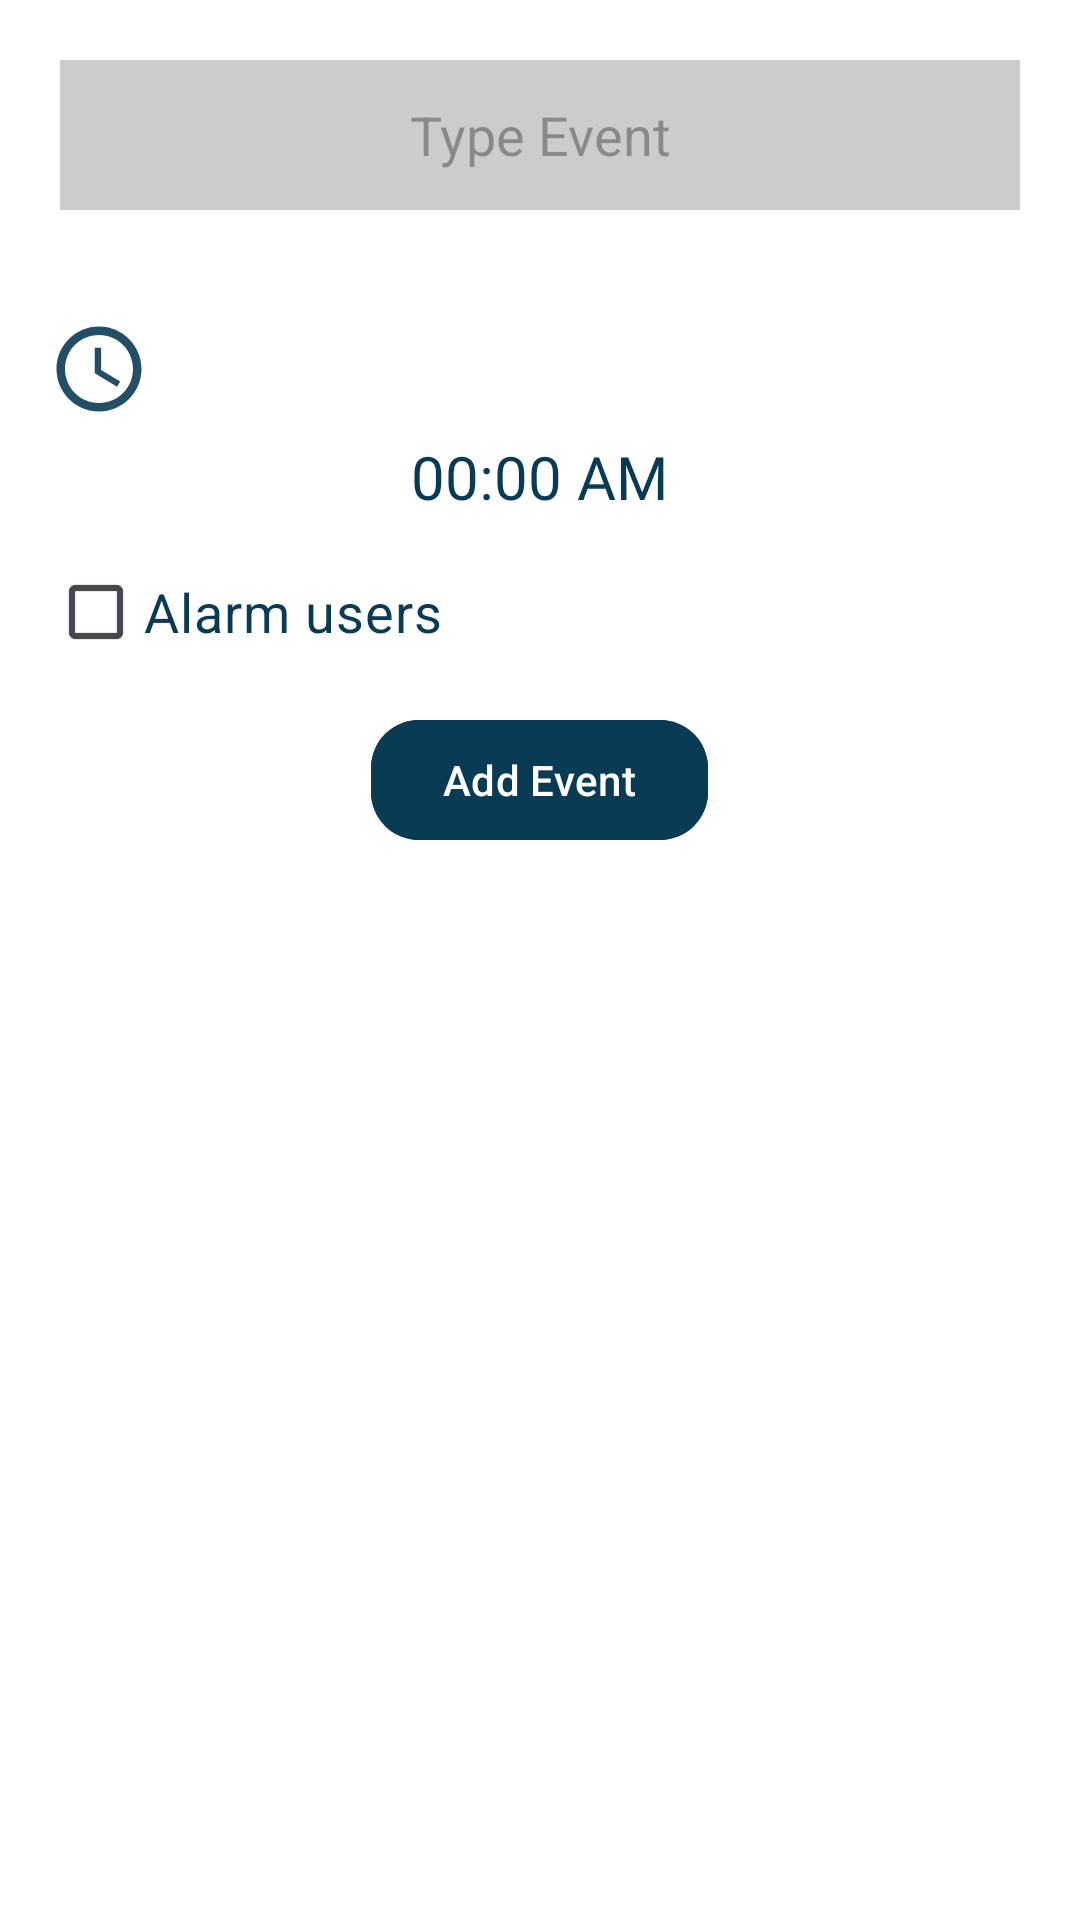

Icon click points for this 1080px x 1920px phone screenshot, format (x=x, y=y):
access time: (x=99, y=369)
